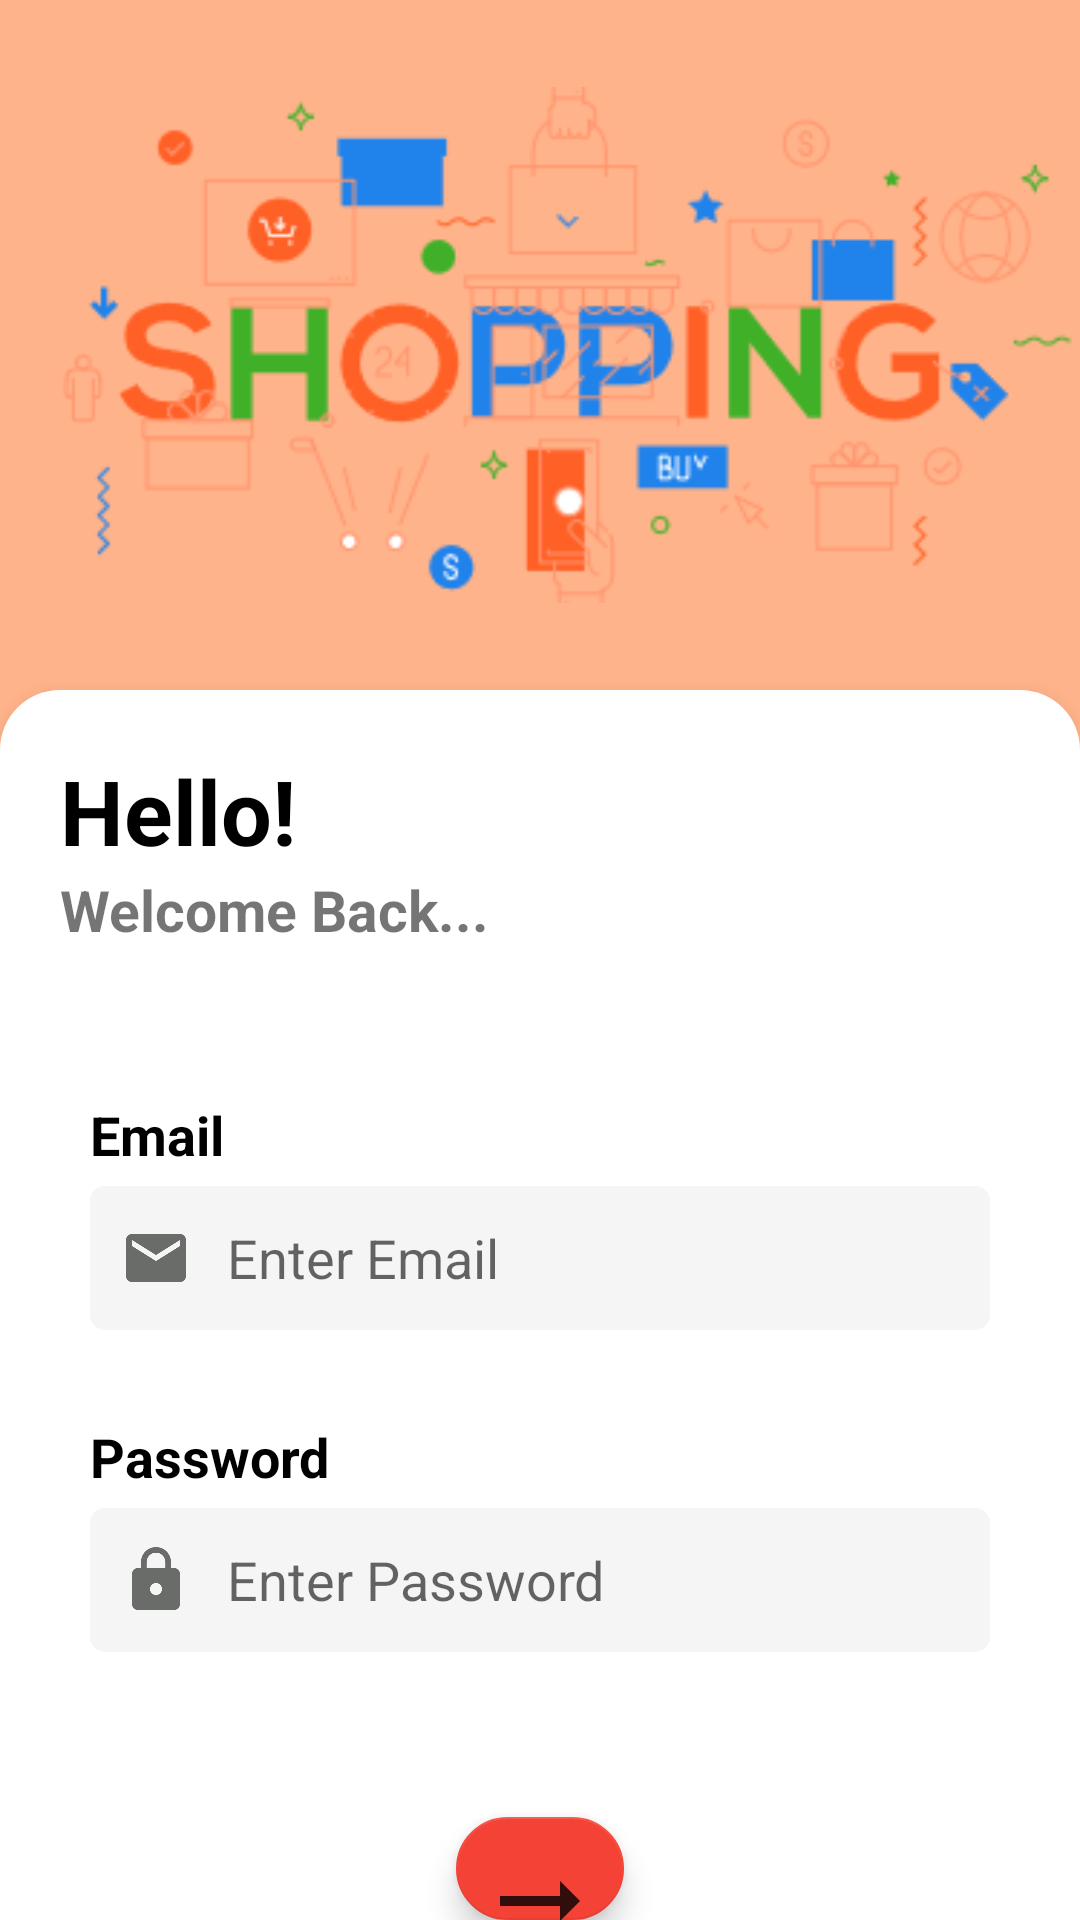

Icon click points for this 1080px x 1920px phone screenshot, format (x=x, y=y):
arrow: (x=540, y=1868)
